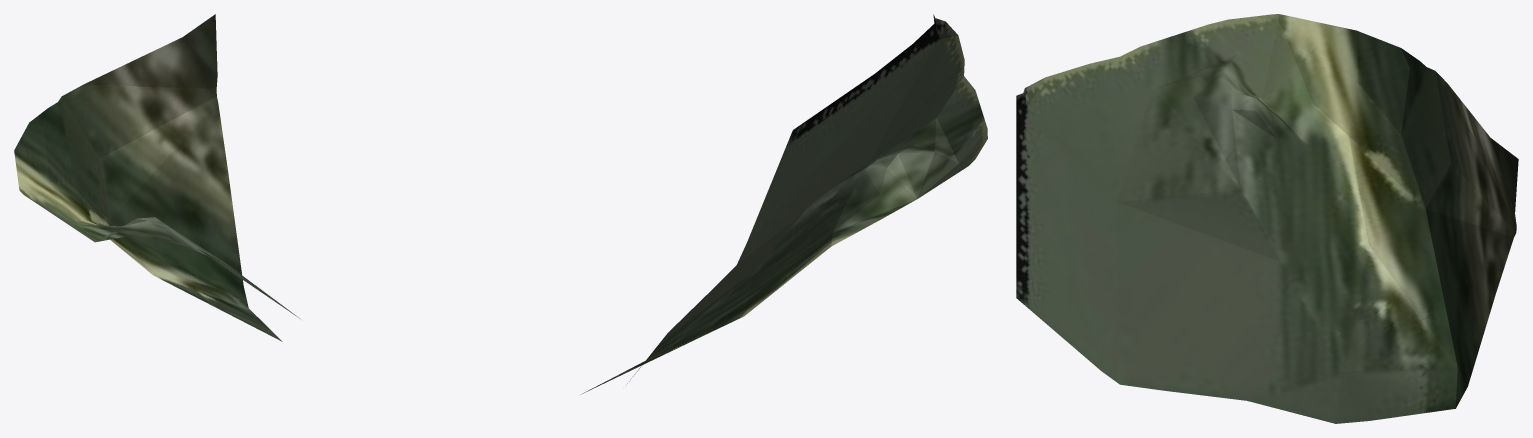
3 renders of one model, left to right at view 1: azimuth 30°, elevation 25°; view 2: azimuth 150°, elevation 25°; view 3: azimuth 270°, elevation 25°, orthographic. The views are drawn at different scales.
Size of the model in its own units: 2.5 by 2.13 by 3.65.
Materials: 1 (1 with a texture image).
